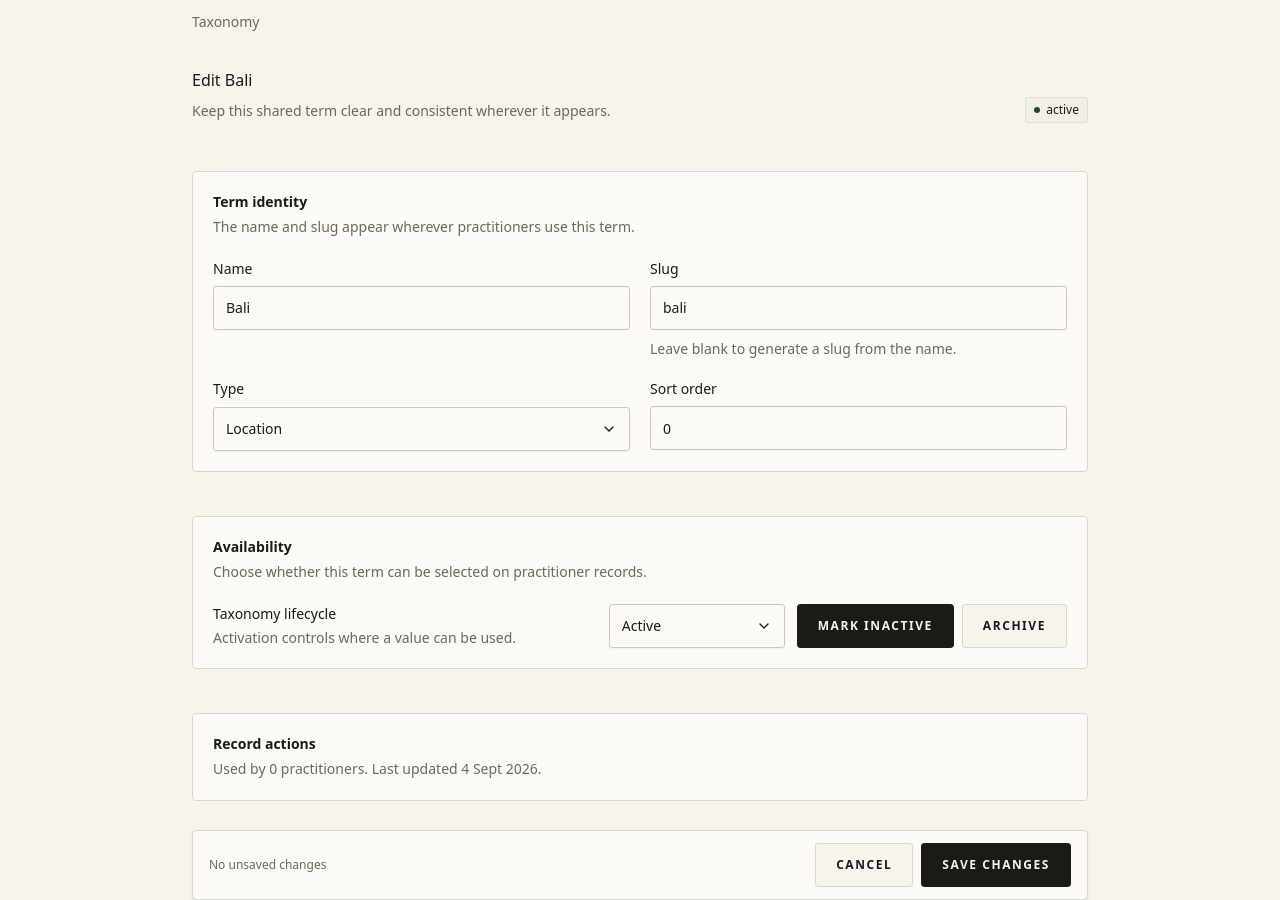
Test: practitioner and taxonomy CMS controls › clears the saved state when an existing taxonomy term is edited
Click the button "Save changes" at (996, 865), box [921, 843, 1071, 887]
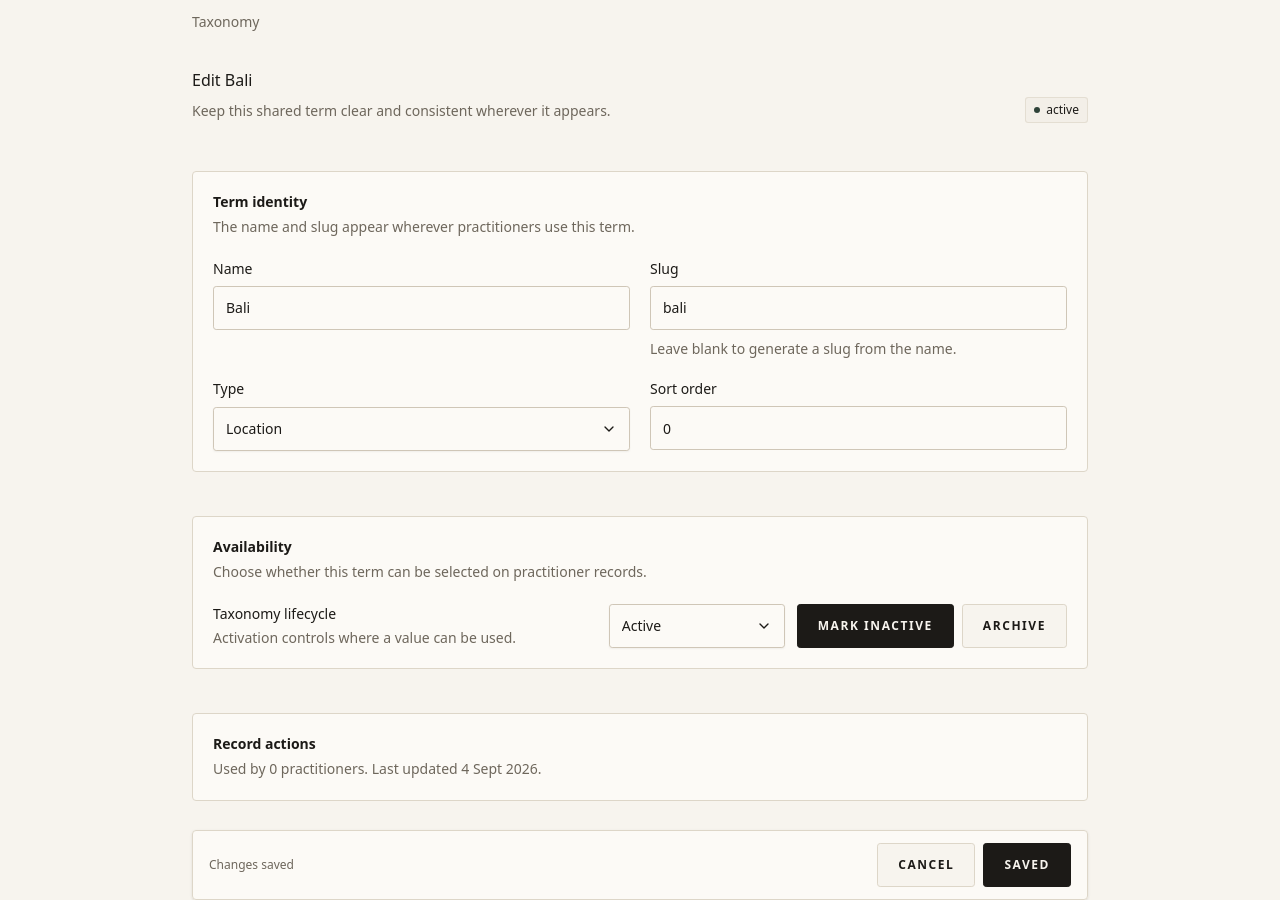
Expected: the button "Saved" is shown, [983, 843, 1071, 887]
Replace the text in the field labelled "Name" with "Changed term" at (422, 308), box [213, 286, 630, 330]
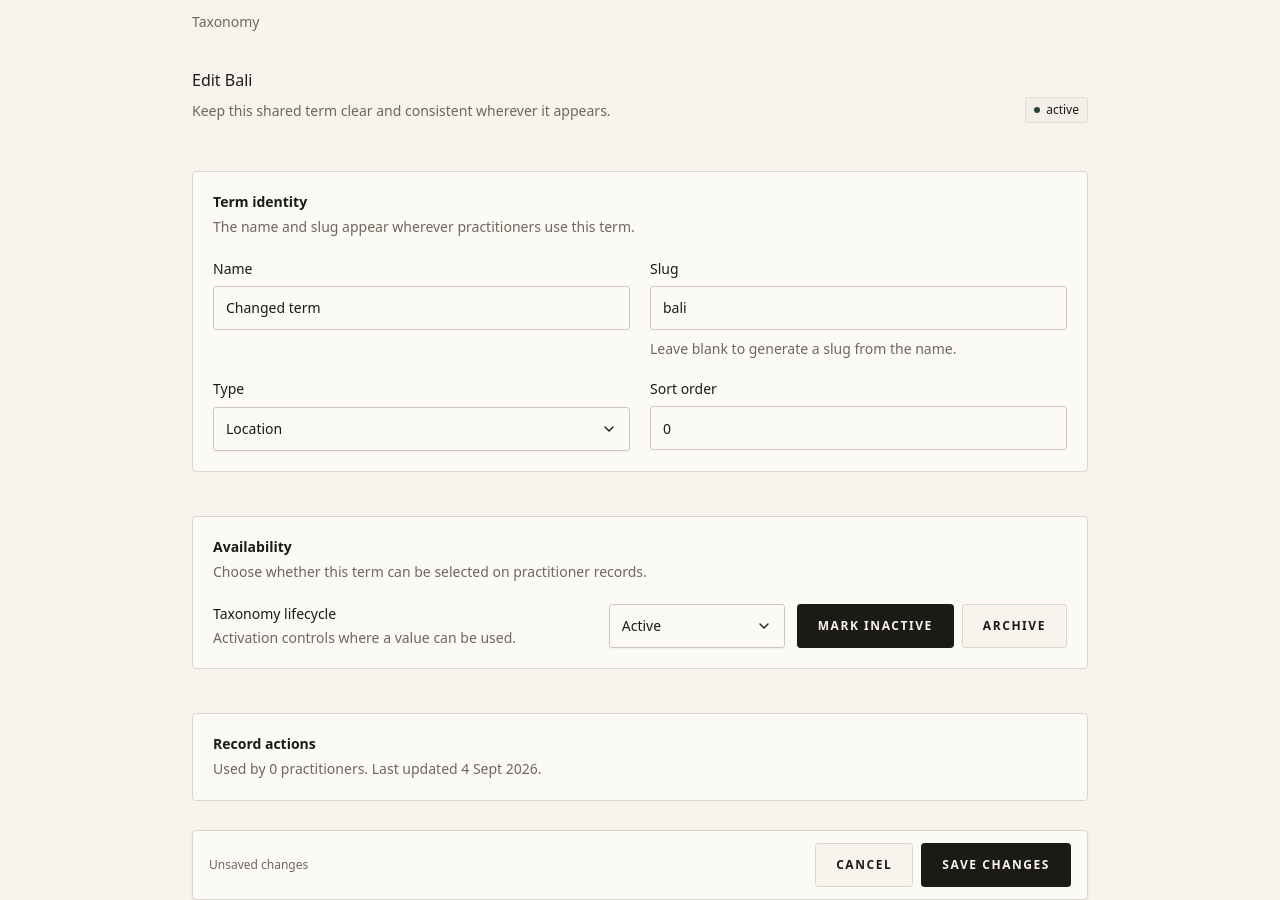
Expected: the button "Save changes" is shown, [921, 843, 1071, 887]
